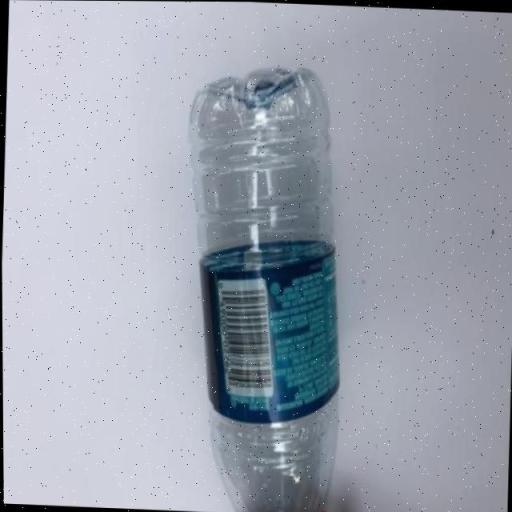plastic: (174, 61, 358, 512)
